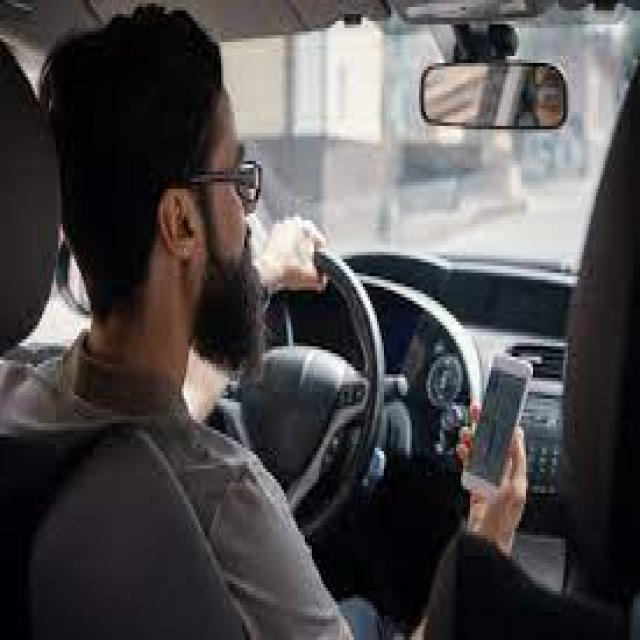Cellphone_texting: (452, 342, 538, 560)
